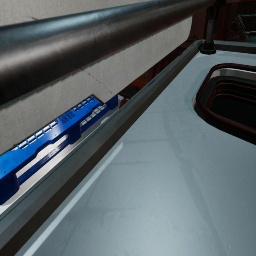FireExtinguisher ]: (119, 99, 129, 109)
